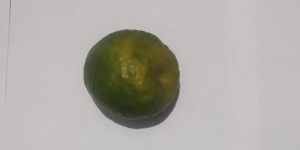BAD: (83, 27, 183, 128)
